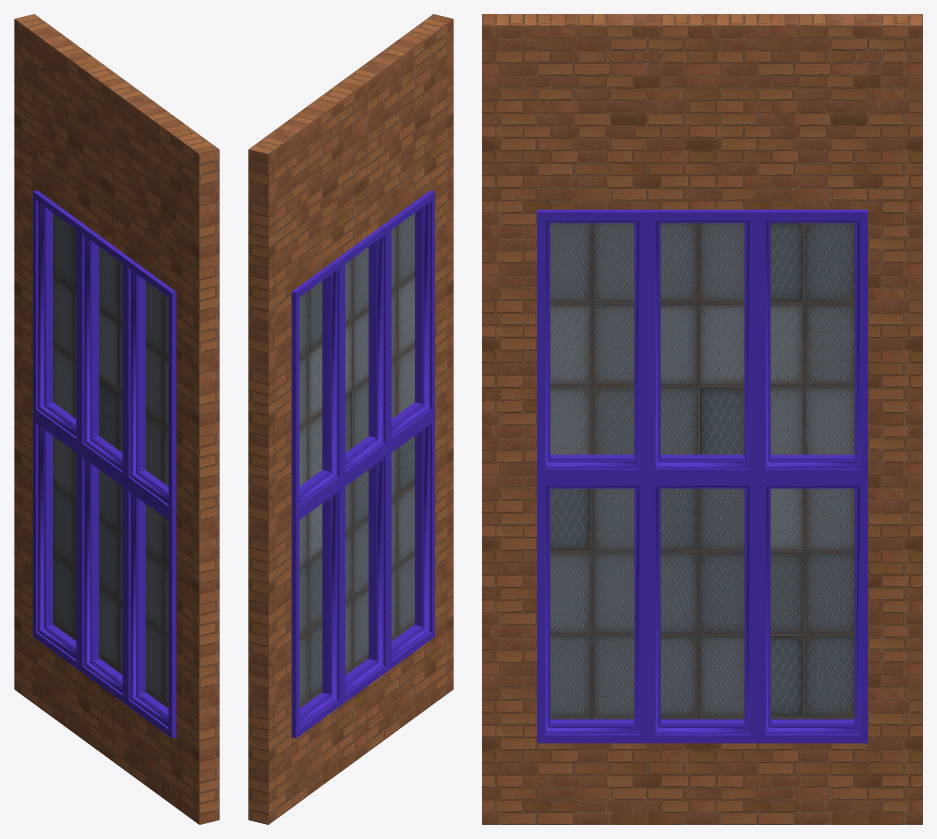
The model's file is WarehouseWindowDouble_SM.FBX.
3 renders of one model, left to right at view 1: azimuth 30°, elevation 25°; view 2: azimuth 150°, elevation 25°; view 3: azimuth 270°, elevation 25°, orthographic. The views are drawn at different scales.
Parts seen in each view (by area): view 1: WarehouseWindowDouble_SM, Loft002, Rectangle004; view 2: WarehouseWindowDouble_SM, Loft002, Rectangle004; view 3: WarehouseWindowDouble_SM, Rectangle004, Loft002.
Boxes of the visible parts, x1,y1,x2,y2 form: WarehouseWindowDouble_SM: (14, 14, 219, 824); Loft002: (33, 190, 176, 738); Rectangle004: (53, 213, 168, 708); WarehouseWindowDouble_SM: (248, 14, 453, 824); Loft002: (291, 190, 434, 738); Rectangle004: (299, 213, 414, 708); WarehouseWindowDouble_SM: (482, 14, 922, 824); Rectangle004: (550, 223, 854, 719); Loft002: (537, 209, 867, 743).
Bounding box in the file's own units: 36.31 × 800 × 400.
